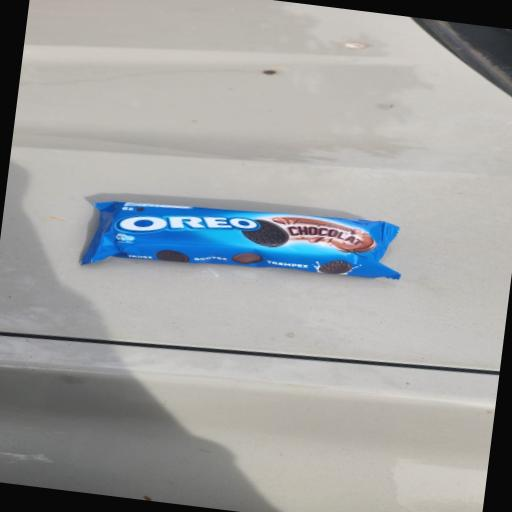oreo: (40, 144, 497, 360)
